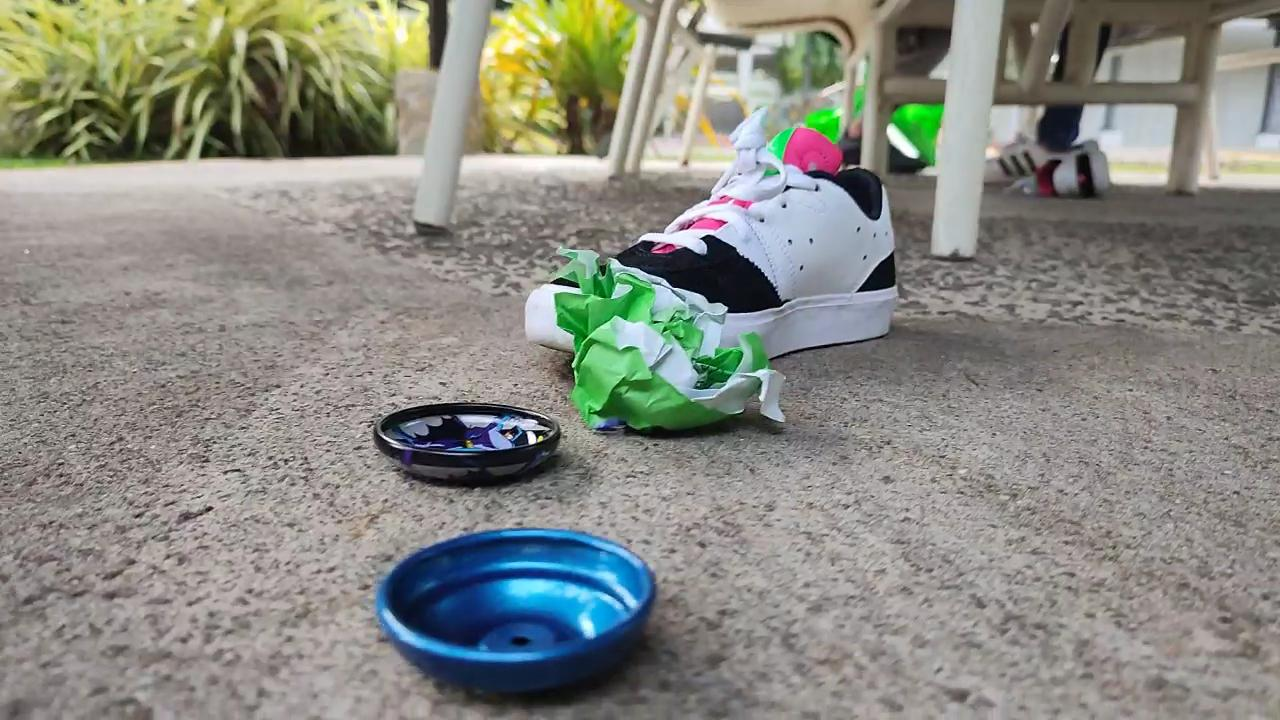Paper: (518, 217, 796, 438)
